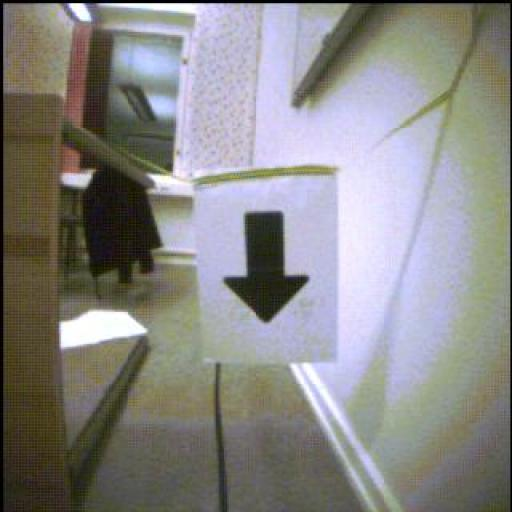arrow: (225, 212, 310, 323)
